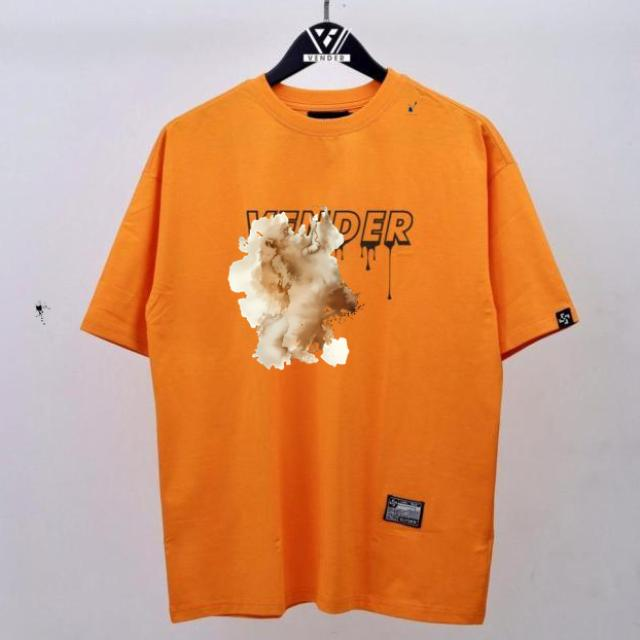stain: (231, 209, 359, 373), (402, 95, 427, 124)
